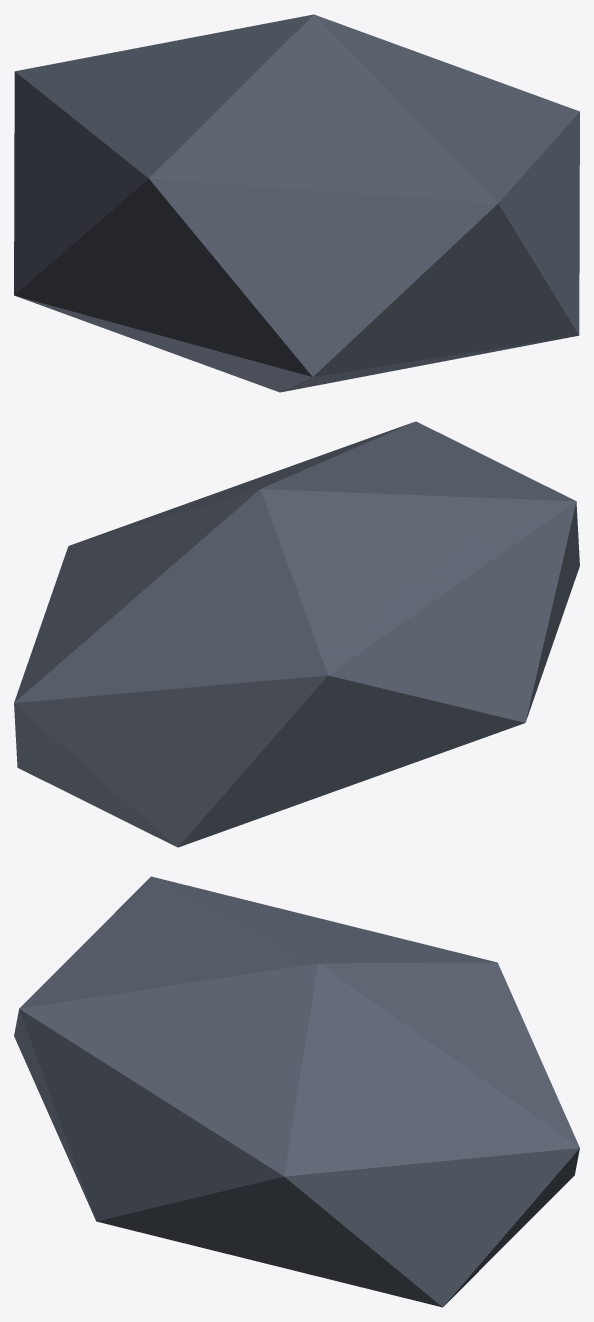
Rendered from EXT_SouthCliff_03_Shard_1.glb.
The picture shows the model from 3 angles, top to bottom: view 1: azimuth 30°, elevation 25°; view 2: azimuth 150°, elevation 25°; view 3: azimuth 270°, elevation 25°; orthographic projection. The views are drawn at different scales.
Parts seen in each view (by area): view 1: EXT_SouthCliff_03_Shard_1; view 2: EXT_SouthCliff_03_Shard_1; view 3: EXT_SouthCliff_03_Shard_1.
Part boxes in pixels (x1,y1,x2,y2): EXT_SouthCliff_03_Shard_1: (14,14,579,392); EXT_SouthCliff_03_Shard_1: (14,421,579,847); EXT_SouthCliff_03_Shard_1: (14,876,579,1307).
Bounding box in the file's own units: 1.37 × 0.8191 × 1.49.
